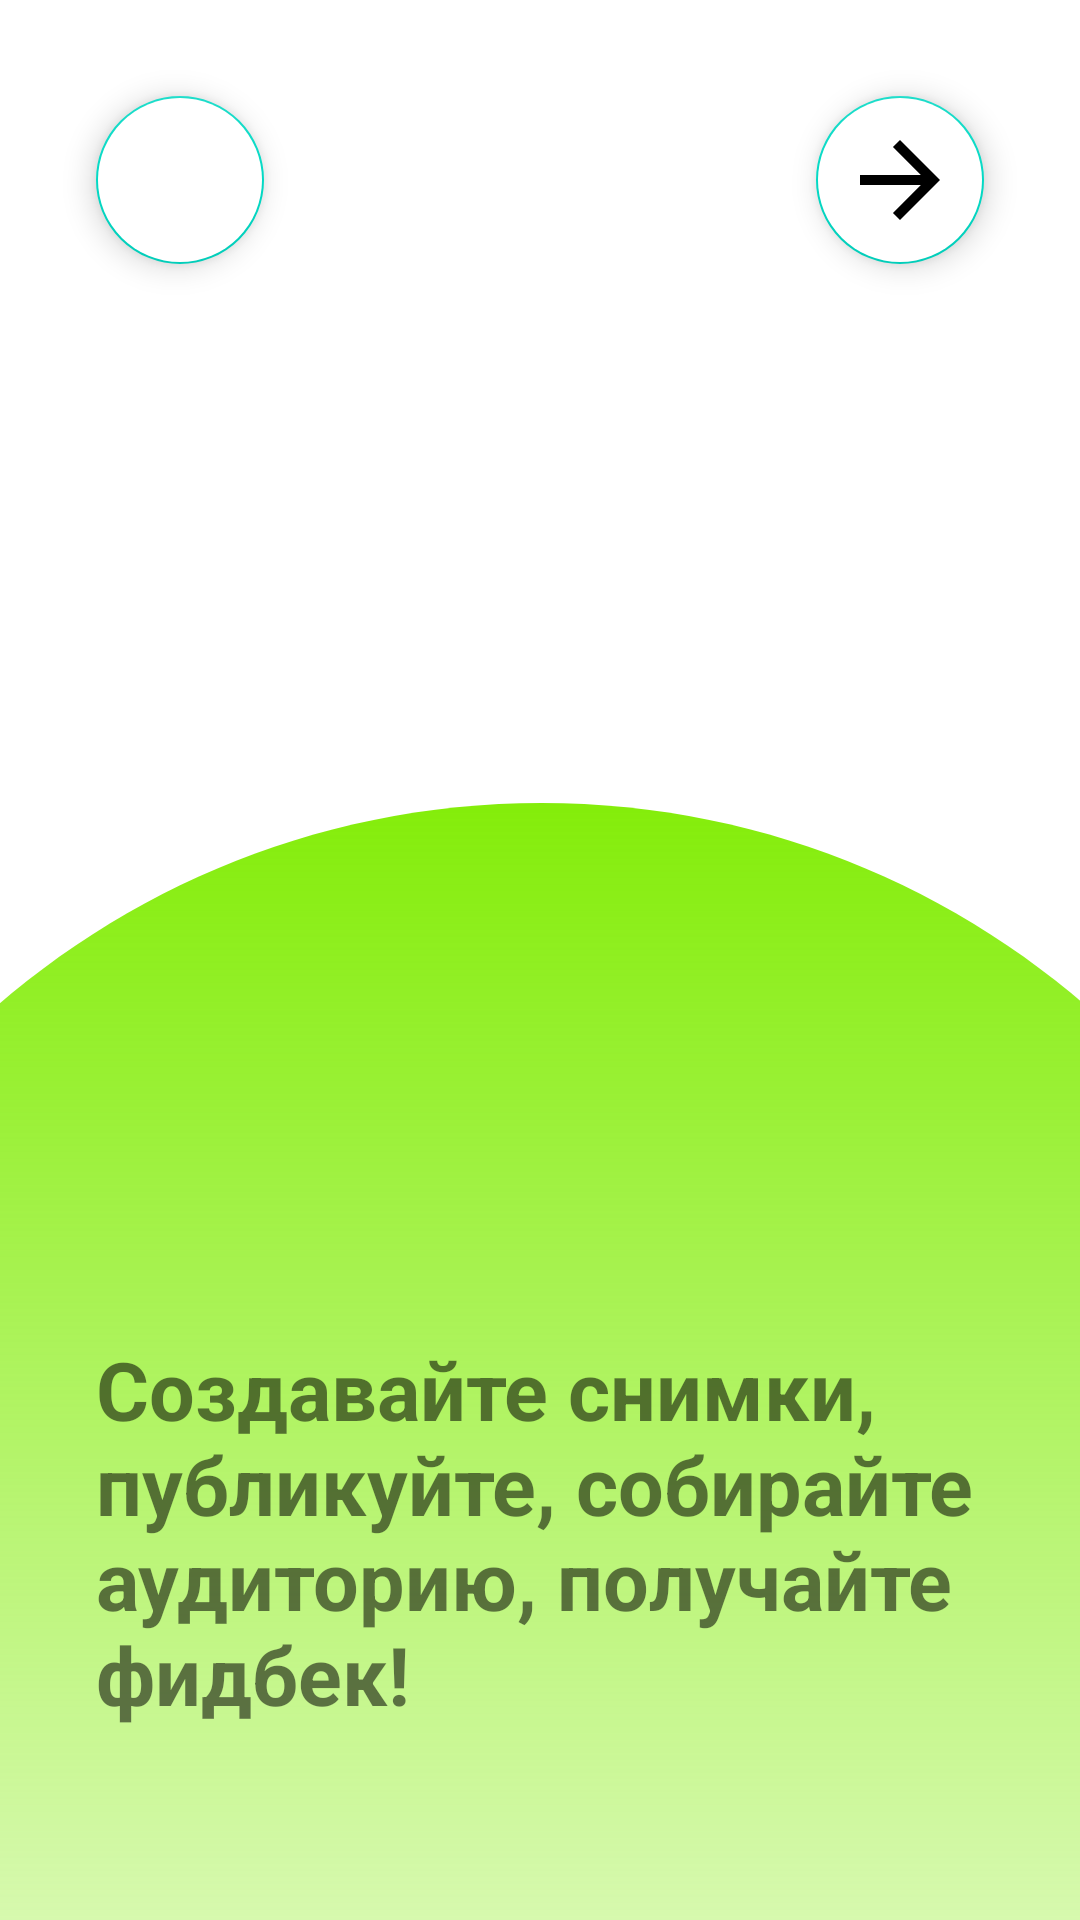

Where to tap for icons on this 1080w x 1920h app screen, as point (x, y):
arrow forward: point (900, 180)
